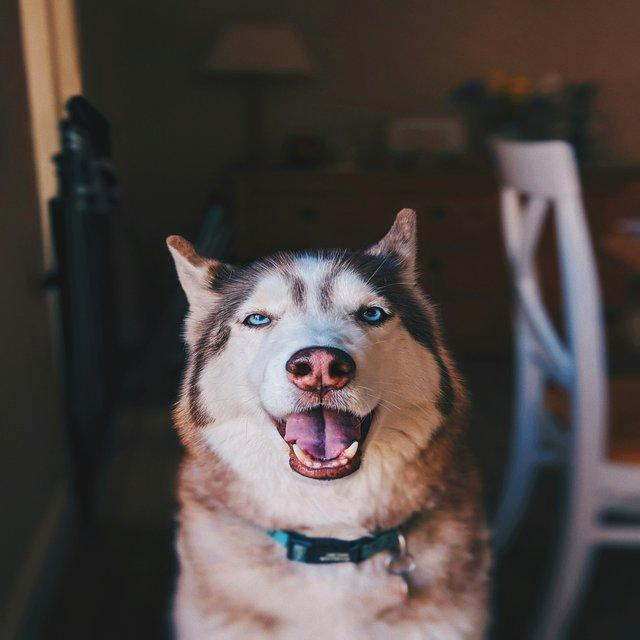husky: (166, 206, 494, 638)
